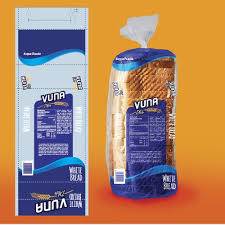bread: (15, 3, 91, 218), (109, 16, 183, 201)
